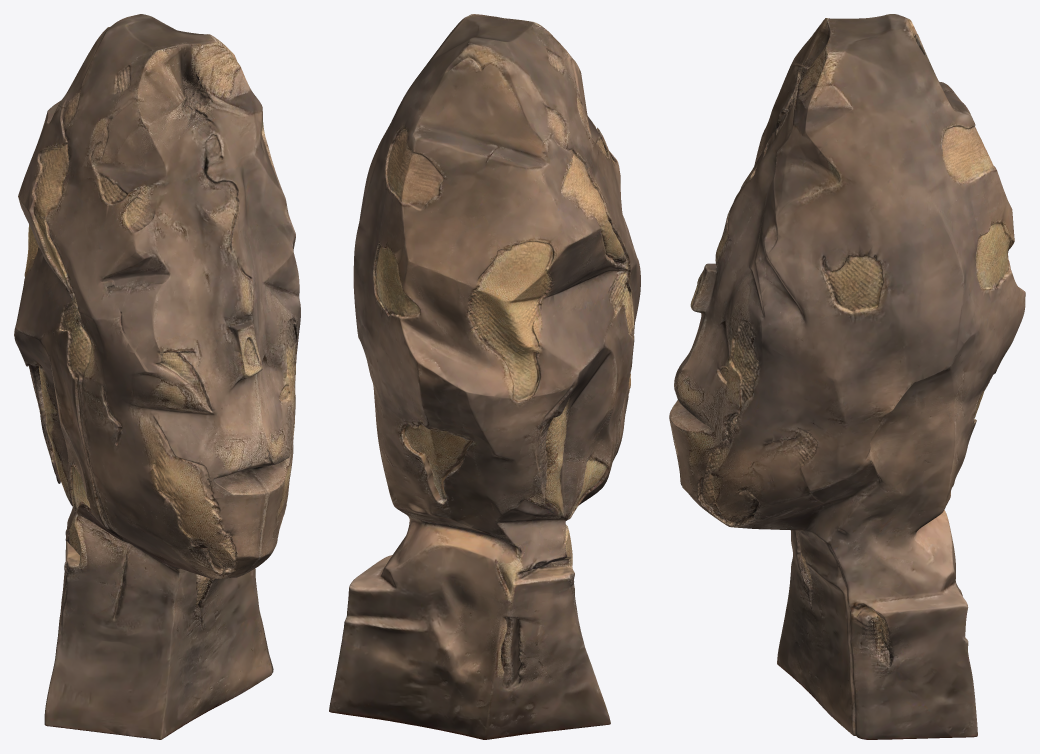
File: shah-faceted-head.glb
3 renders of one model, left to right at view 1: azimuth 30°, elevation 25°; view 2: azimuth 150°, elevation 25°; view 3: azimuth 270°, elevation 25°, orthographic.
Visible parts, largest first — view 1: mesh1; view 2: mesh1; view 3: mesh1.
Boxes of the visible parts, left/top/right/bottom form: mesh1: left=14, top=14, right=300, bottom=739; mesh1: left=329, top=14, right=640, bottom=739; mesh1: left=669, top=14, right=1025, bottom=739.
Size of the model in its own units: 0.4862 by 1.32 by 0.6455.
Materials: 1 (1 with a texture image).
